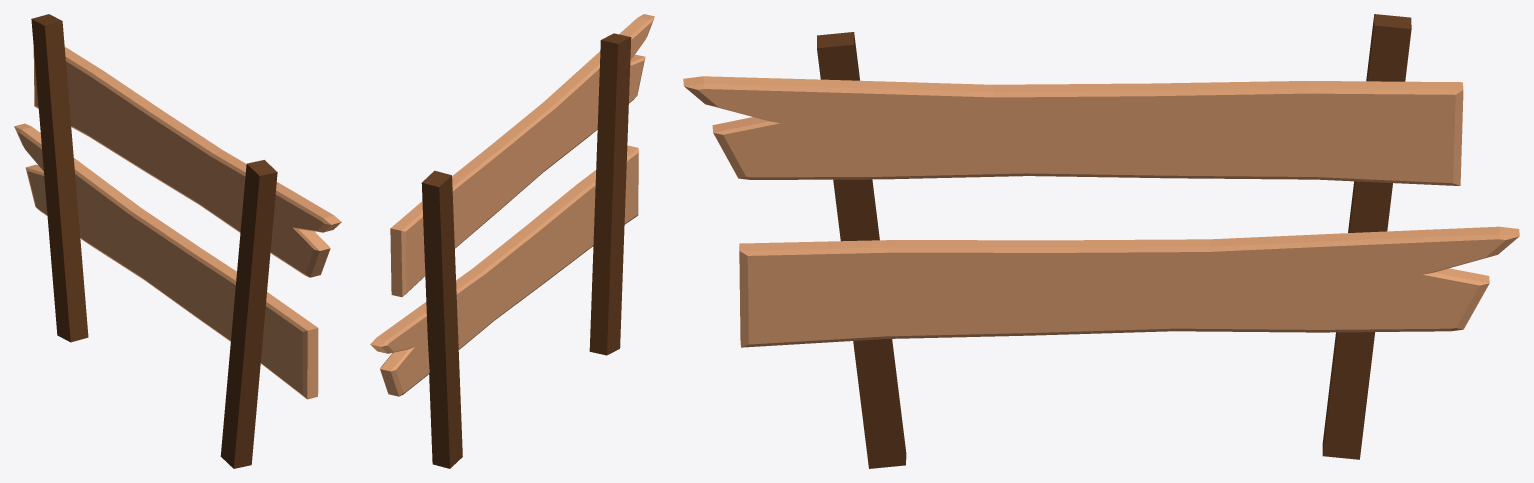
Rendered from Zaun einzeln.fbx.
3 renders of one model, left to right at view 1: azimuth 30°, elevation 25°; view 2: azimuth 150°, elevation 25°; view 3: azimuth 270°, elevation 25°, orthographic. The views are drawn at different scales.
Visible parts, largest first — view 1: Cube.191; view 2: Cube.191; view 3: Cube.191.
Part boxes in pixels (<box>): Cube.191: <box>14,14,341,468</box>; Cube.191: <box>370,14,654,468</box>; Cube.191: <box>683,14,1519,468</box>.
Size of the model in its own units: 42.17 by 424 by 245.
